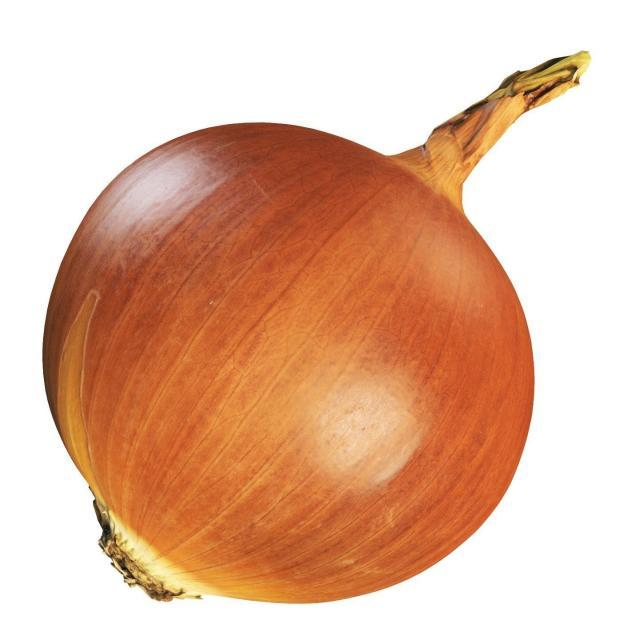onion: (41, 119, 538, 605)
